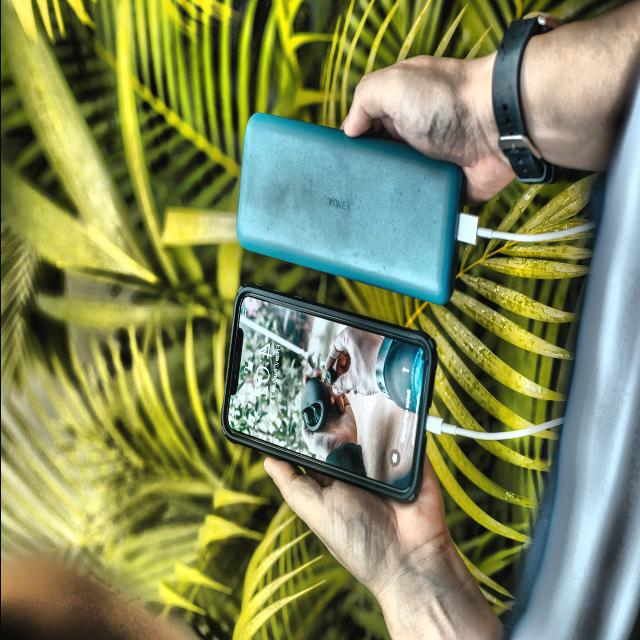PHONE: (221, 285, 435, 502)
Power bank: (236, 113, 464, 304)
